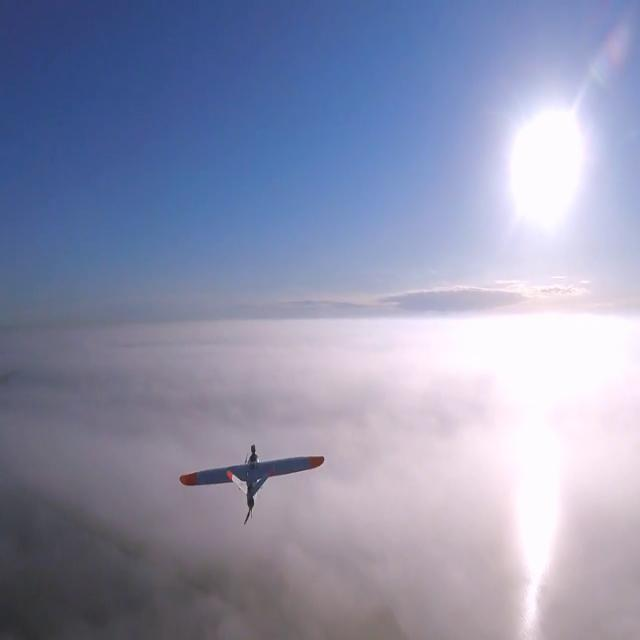iha: (178, 474, 326, 500)
